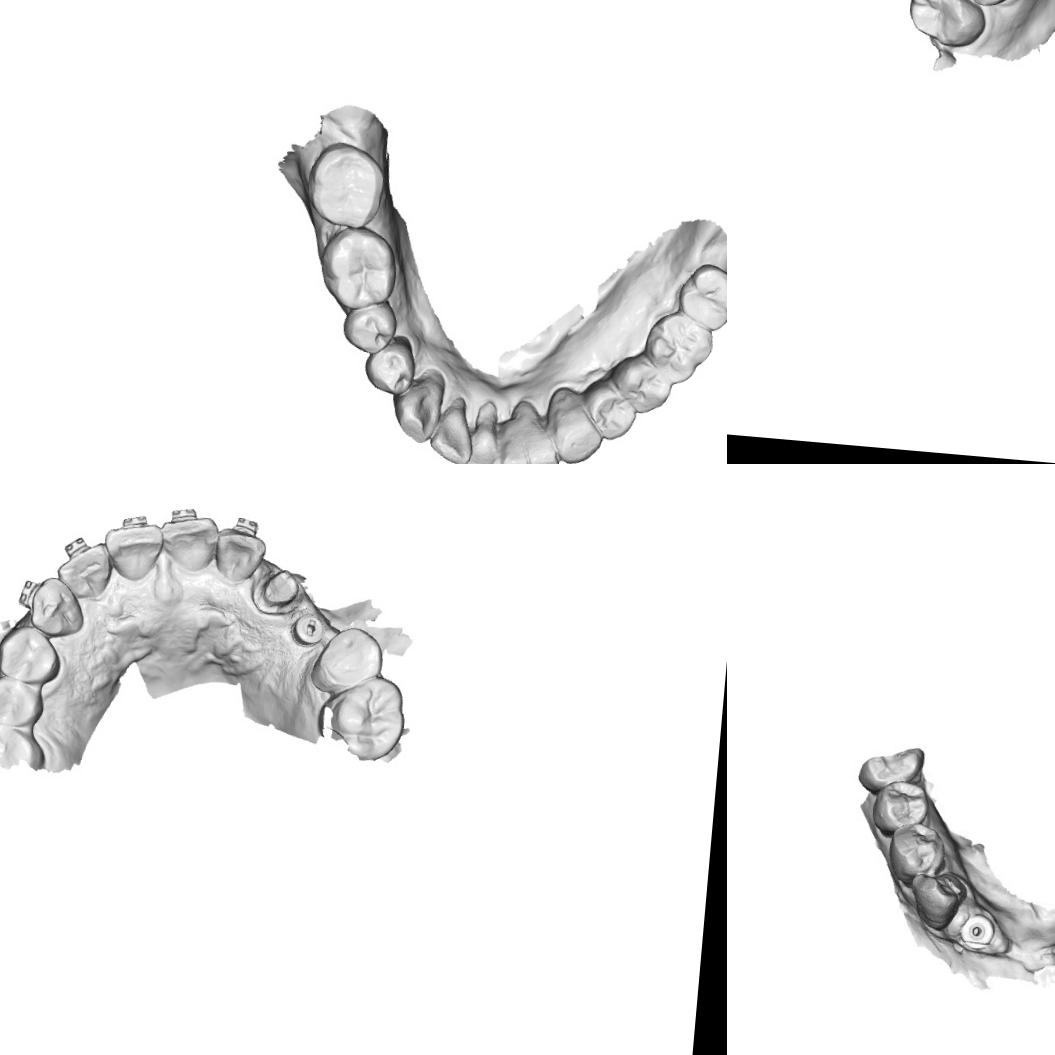canine: (540, 382, 608, 464), (20, 573, 89, 641), (388, 372, 448, 446), (908, 866, 964, 928)
crown: (255, 564, 304, 616)
implant: (960, 914, 994, 948)
implant_minus: (286, 607, 328, 651)
incisor: (96, 518, 167, 585), (52, 536, 118, 604), (154, 511, 222, 576), (210, 520, 270, 588), (456, 397, 511, 464), (425, 401, 479, 464), (520, 415, 564, 464), (495, 419, 537, 464)
molar: (312, 223, 402, 316), (302, 138, 391, 232), (317, 670, 408, 761), (638, 308, 716, 387), (904, 0, 992, 50), (674, 258, 727, 335)
premolar: (308, 622, 386, 701), (606, 352, 677, 418), (0, 622, 64, 686), (883, 821, 948, 883), (579, 381, 641, 444), (360, 336, 420, 398), (867, 776, 929, 836), (339, 297, 400, 356), (0, 675, 47, 729)
